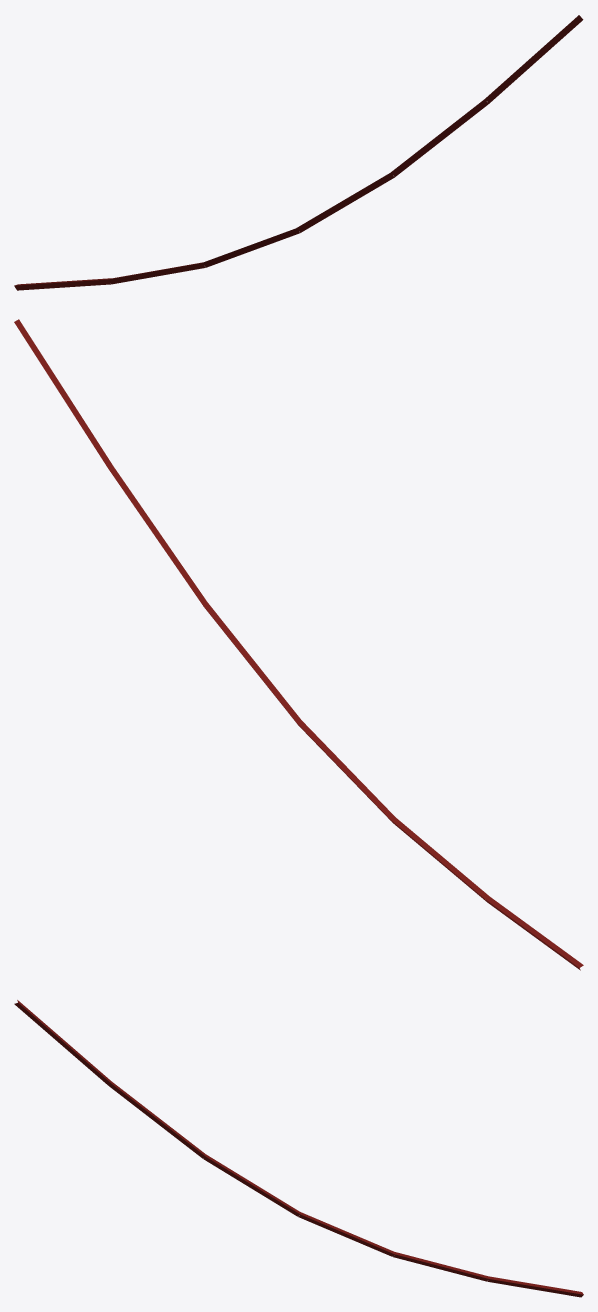
Rendered from leash_small.glb.
3 views of the same model, one above another, from view 1: azimuth 30°, elevation 25°; view 2: azimuth 210°, elevation 25°; view 3: azimuth 270°, elevation 25° (orthographic). The views are drawn at different scales.
Parts seen in each view (by area): view 1: leash_small; view 2: leash_small; view 3: leash_small.
Boxes of the visible parts, x1,y1,x2,y2 form: leash_small: (14,15,583,290); leash_small: (14,319,583,970); leash_small: (14,1000,583,1297).
Bounding box in the file's own units: 0.2866 × 0.5357 × 0.7048.
